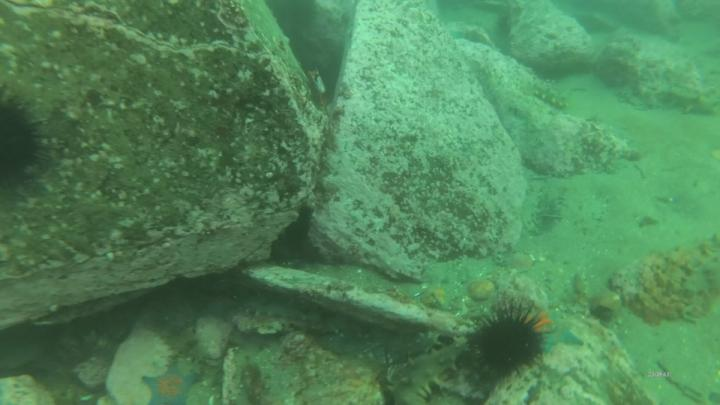echinus: (464, 292, 548, 391), (2, 83, 57, 201)
holothurian: (393, 342, 464, 401), (531, 78, 569, 113)
starfish: (523, 305, 589, 355), (140, 356, 206, 405)
